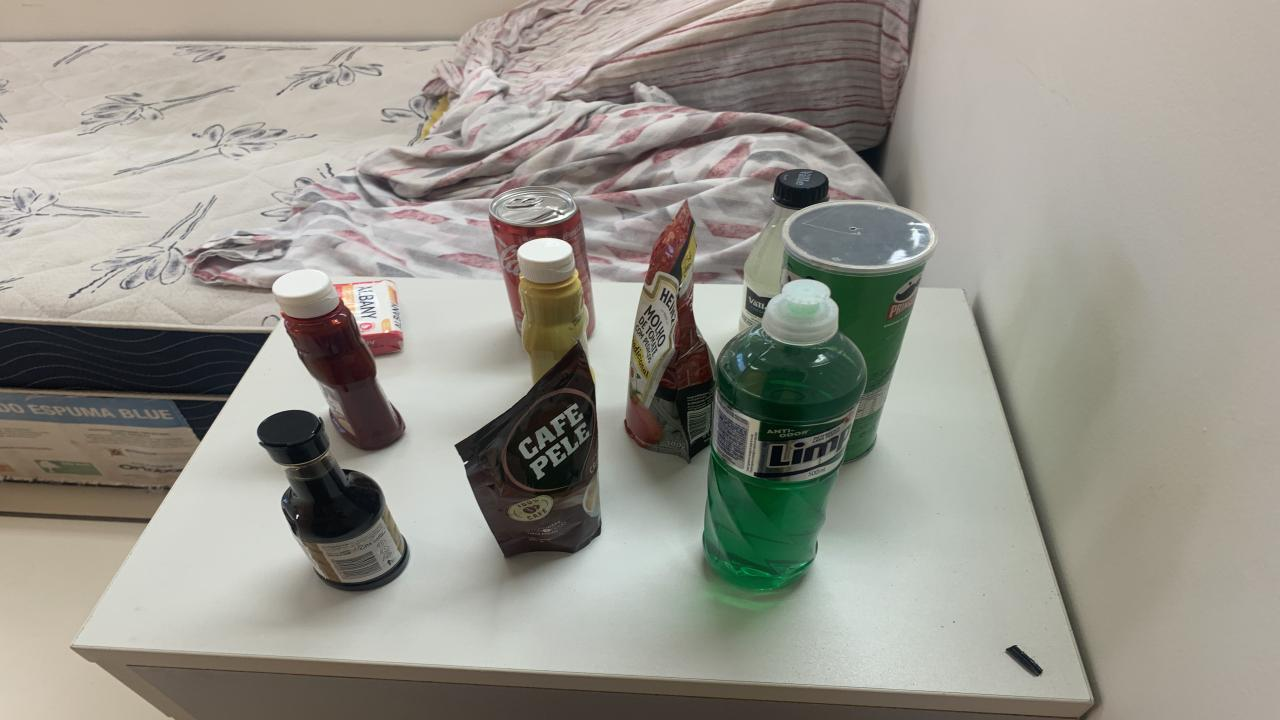Coffee-Pantry_Items: (455, 345, 600, 557)
Coke-Drinks: (488, 186, 595, 332)
Detergent-Cleanup_Items: (702, 279, 868, 589)
English_Sauce-Pantry_Items: (258, 411, 410, 591)
Ketchup-Pantry_Items: (272, 270, 405, 450)
Mustard-Pantry_Items: (518, 238, 590, 381)
Pringles-Snacks: (782, 201, 938, 461)
Soap-Cleanup_Items: (335, 279, 402, 354)
Soda-Drinks: (740, 169, 830, 330)
Tomato_Sauce-Pantry_Items: (625, 202, 712, 461)
